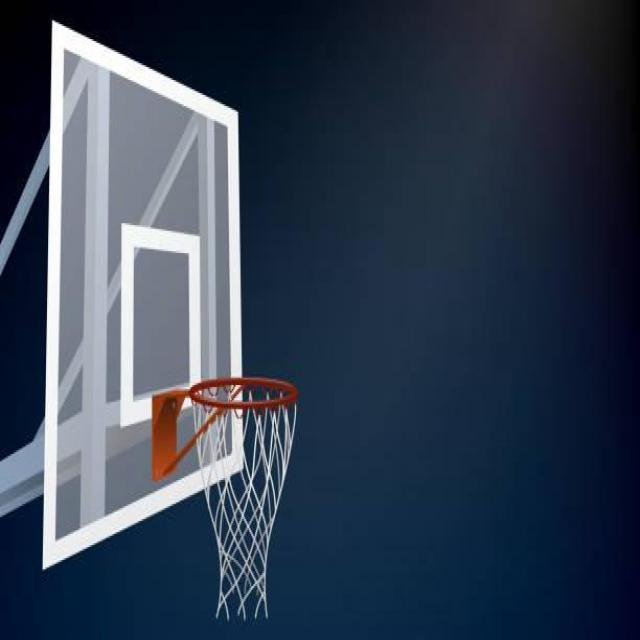hoop: (189, 378, 299, 621)
